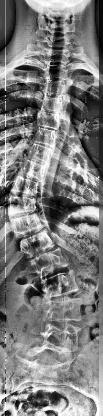Vertebrae: (30, 245, 70, 281), (36, 324, 82, 352), (40, 270, 80, 300), (18, 231, 56, 261), (42, 298, 84, 324), (8, 212, 46, 238), (4, 194, 40, 219), (9, 175, 43, 197), (18, 159, 48, 183), (26, 142, 54, 166), (39, 90, 69, 112), (32, 126, 60, 148), (36, 108, 60, 130), (43, 78, 69, 96), (46, 62, 68, 80), (46, 48, 69, 63)
